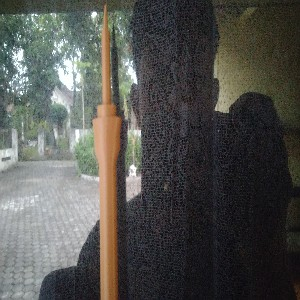solder: (91, 4, 123, 300)
